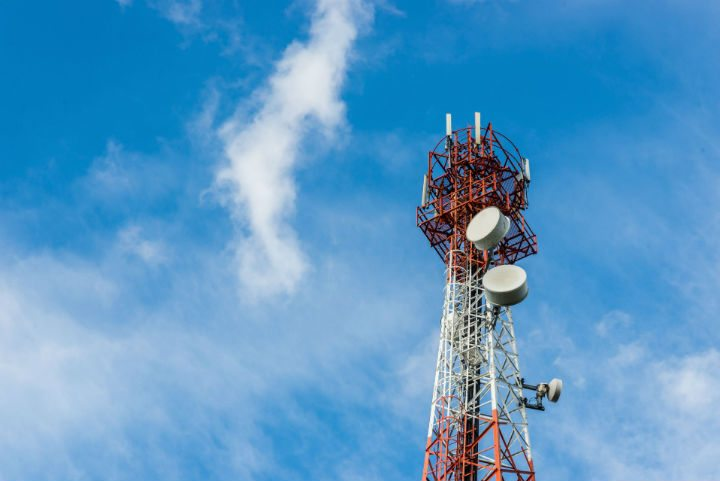ba: (466, 201, 515, 259), (482, 260, 534, 307), (531, 369, 569, 413)
sa: (472, 105, 484, 158), (442, 108, 456, 152), (522, 149, 536, 187), (419, 172, 433, 209)
